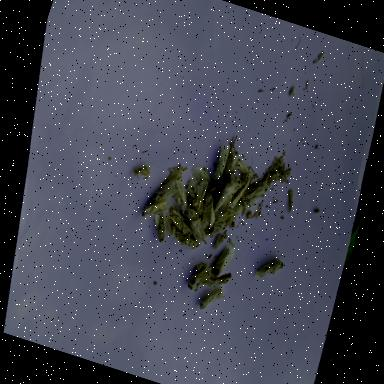pbw: (150, 166, 186, 209), (194, 186, 224, 234), (208, 243, 240, 287), (216, 168, 242, 214), (242, 171, 272, 209), (225, 170, 252, 212), (253, 252, 286, 286), (207, 163, 237, 199), (146, 210, 174, 248), (184, 208, 212, 246), (196, 283, 226, 317), (222, 192, 251, 227), (185, 260, 213, 296), (212, 144, 234, 186), (186, 176, 210, 214), (138, 194, 166, 226), (167, 206, 195, 234), (204, 266, 232, 294), (170, 183, 194, 214), (159, 214, 180, 238), (225, 147, 240, 177), (175, 234, 201, 250)
